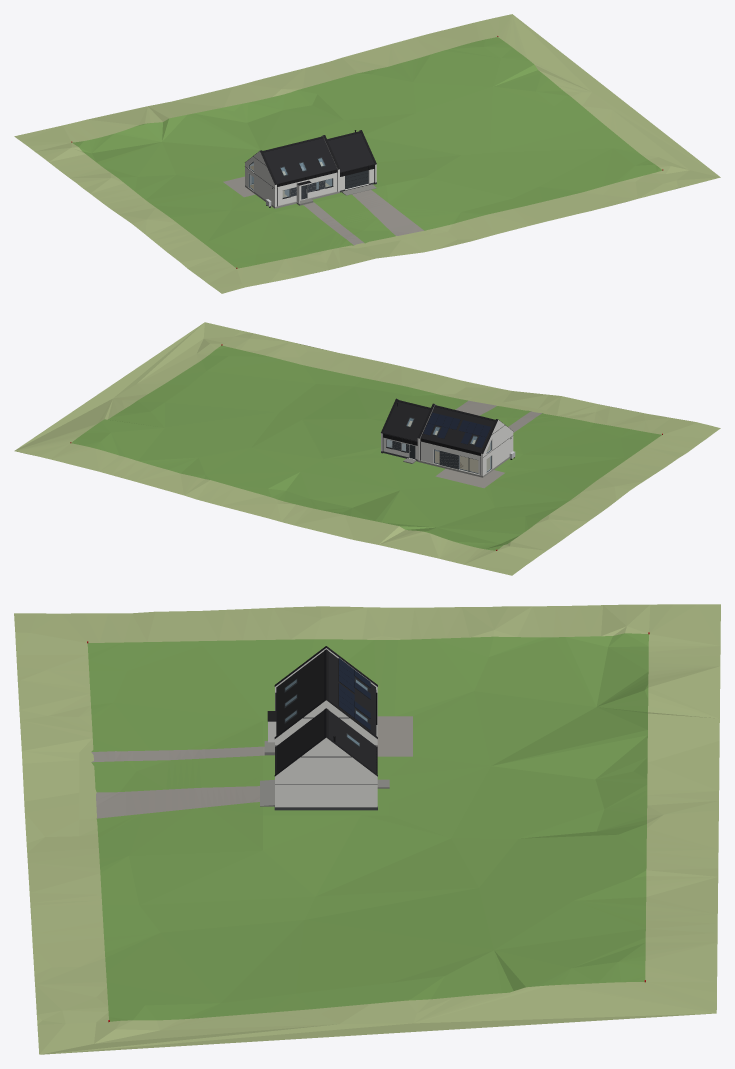
The model's file is dom_garaz_teren_antracyt.obj.
The picture shows the model from 3 angles, top to bottom: view 1: azimuth 30°, elevation 25°; view 2: azimuth 150°, elevation 25°; view 3: azimuth 270°, elevation 25°; orthographic projection. The views are drawn at different scales.
Parts seen in each view (by area): view 1: Teren_–_działka, Teren_–_otoczenie, Teren_–_utwardzenia, Dom_–_Dach_–_połać_frontowa, Garaż_–_Dach_–_połać_frontowa, Dom_–_Ściana_szczytowa_lewa, Dom_–_Ściana_frontowa; view 2: Teren_–_działka, Teren_–_otoczenie, Teren_–_utwardzenia, Dom_–_Dach_–_połać_ogrodowa, Garaż_–_Dach_–_połać_ogrodowa, Dom_–_Instalacja_fotowoltaiczna, Dom_–_Ściana_szczytowa_lewa, Dom_–_Ściana_ogrodowa; view 3: Teren_–_działka, Teren_–_otoczenie, Teren_–_utwardzenia, Garaż_–_Ściana_szczytowa_prawa, Dom_–_Dach_–_połać_frontowa, Garaż_–_Dach_–_połać_frontowa, Garaż_–_Dach_–_połać_ogrodowa, Dom_–_Instalacja_fotowoltaiczna, Dom_–_Dach_–_połać_ogrodowa, Dom_–_Ściana_szczytowa_prawa.
Boxes of the visible parts, <box> form: Teren_–_działka: <box>72,37,662,268</box>; Teren_–_otoczenie: <box>14,14,720,293</box>; Teren_–_utwardzenia: <box>223,176,424,245</box>; Dom_–_Dach_–_połać_frontowa: <box>263,138,337,183</box>; Garaż_–_Dach_–_połać_frontowa: <box>328,133,374,172</box>; Dom_–_Ściana_szczytowa_lewa: <box>245,151,276,206</box>; Dom_–_Ściana_frontowa: <box>277,172,337,205</box>; Teren_–_działka: <box>71,345,661,550</box>; Teren_–_otoczenie: <box>14,322,720,575</box>; Teren_–_utwardzenia: <box>435,400,541,488</box>; Dom_–_Dach_–_połać_ogrodowa: <box>420,407,494,452</box>; Garaż_–_Dach_–_połać_ogrodowa: <box>383,401,429,441</box>; Dom_–_Instalacja_fotowoltaiczna: <box>423,412,490,447</box>; Dom_–_Ściana_szczytowa_lewa: <box>481,420,513,475</box>; Dom_–_Ściana_ogrodowa: <box>420,441,480,474</box>; Teren_–_działka: <box>87,633,648,1021</box>; Teren_–_otoczenie: <box>14,604,720,1054</box>; Teren_–_utwardzenia: <box>91,716,412,818</box>; Garaż_–_Ściana_szczytowa_prawa: <box>275,737,377,807</box>; Dom_–_Dach_–_połać_frontowa: <box>276,651,323,735</box>; Garaż_–_Dach_–_połać_frontowa: <box>276,710,323,772</box>; Garaż_–_Dach_–_połać_ogrodowa: <box>328,710,375,772</box>; Dom_–_Instalacja_fotowoltaiczna: <box>338,658,370,730</box>; Dom_–_Dach_–_połać_ogrodowa: <box>328,651,375,735</box>; Dom_–_Ściana_szczytowa_prawa: <box>275,700,377,746</box>.
Bounding box in the file's own units: 83.06 × 9.05 × 59.08.
